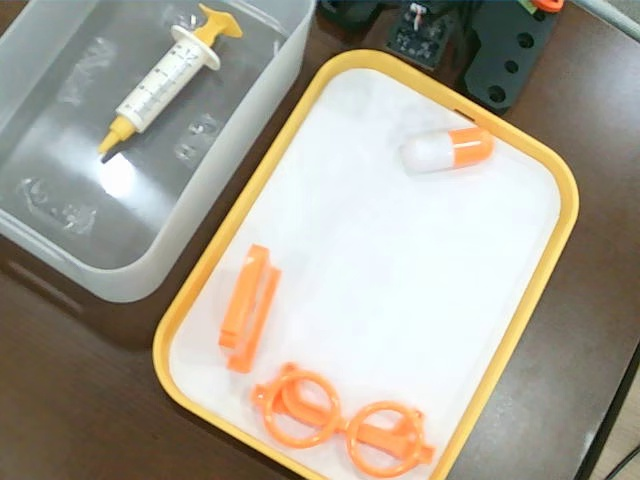pill: (401, 127, 493, 173)
syringe: (98, 3, 244, 155)
